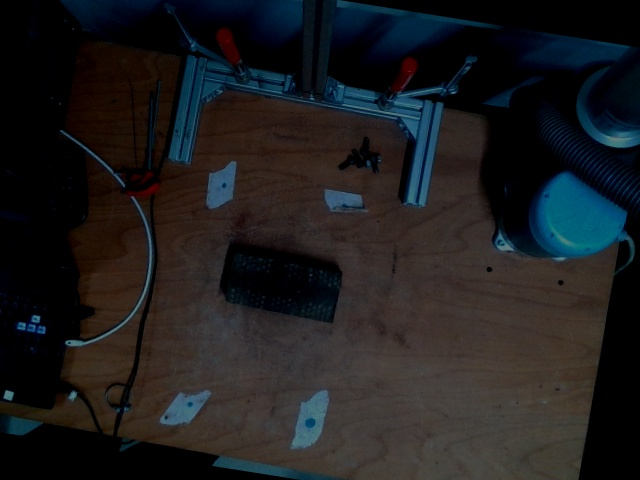brick: (222, 252, 340, 324)
